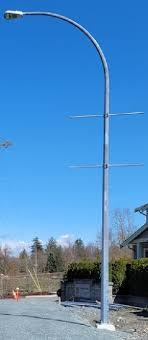light_pole: (80, 17, 120, 326)
